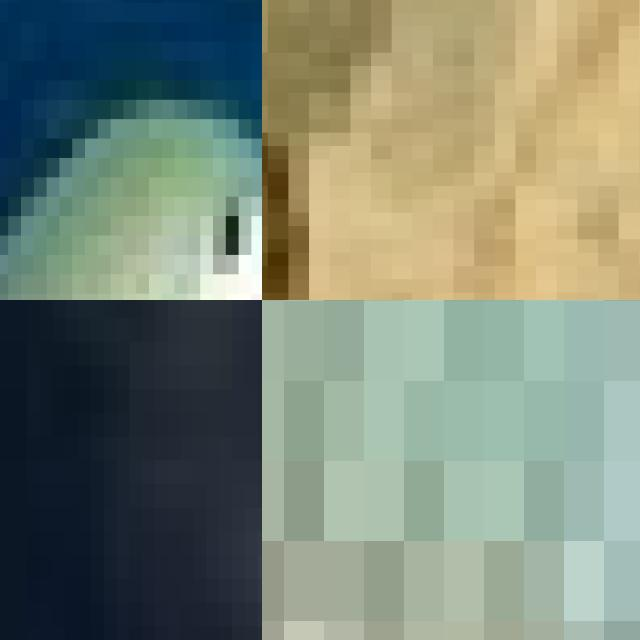fish: (0, 0, 262, 300), (262, 461, 640, 640)
